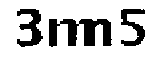3: (14, 5, 43, 50)
5: (117, 3, 150, 51)
n: (80, 14, 116, 49), (47, 17, 79, 49)
